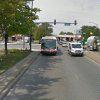Bus: (38, 33, 60, 56)
